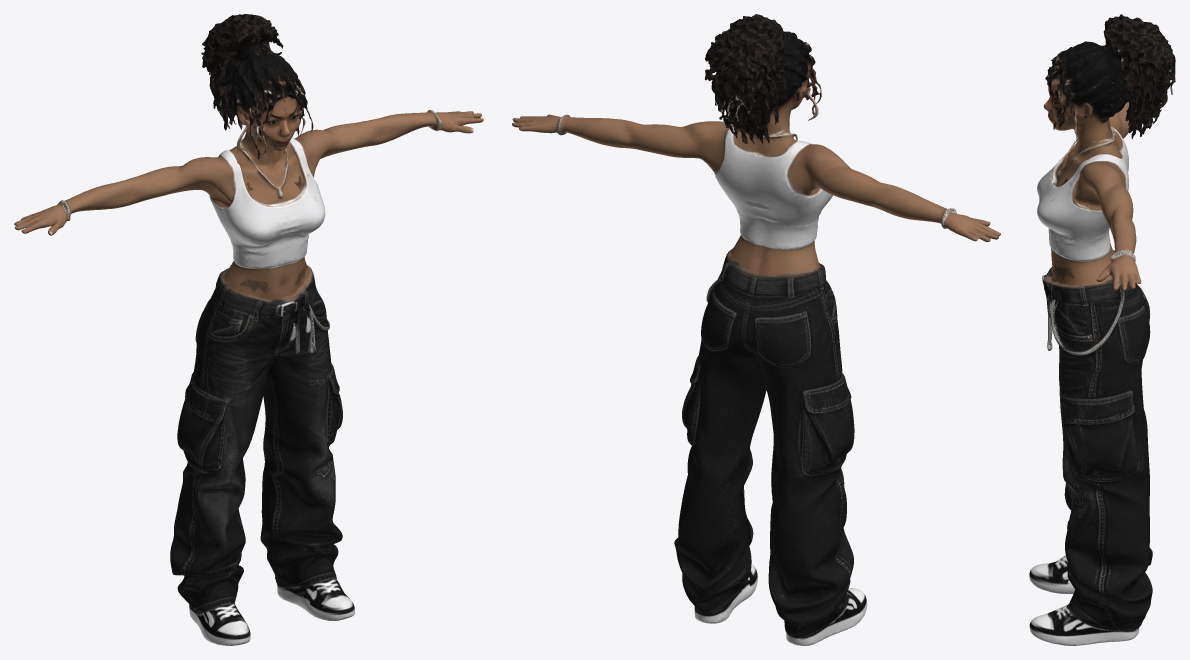
Rendered from Meshy_AI_Urban_Balance_20261025_texture.fbx.
3 renders of one model, left to right at view 1: azimuth 30°, elevation 25°; view 2: azimuth 150°, elevation 25°; view 3: azimuth 270°, elevation 25°, orthographic. The views are drawn at different scales.
Visible parts, largest first — view 1: Mesh_0; view 2: Mesh_0; view 3: Mesh_0.
Boxes of the visible parts, x1=… form: Mesh_0: x1=14, y1=14, x2=483, y2=645; Mesh_0: x1=512, y1=14, x2=1000, y2=645; Mesh_0: x1=1029, y1=14, x2=1175, y2=645.
Bounding box in the file's own units: 158 × 190 × 42.21.
Materials: 1 (1 with a texture image).
